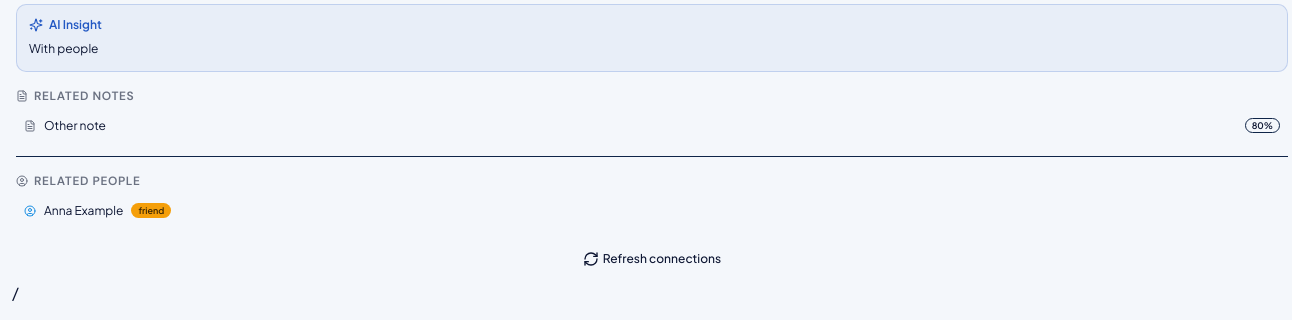
Test: ConnectionsPanel related people › opens the person's own page, not the People list
Click the button "Anna Example friend": (84, 210) [16,196,1288,224]
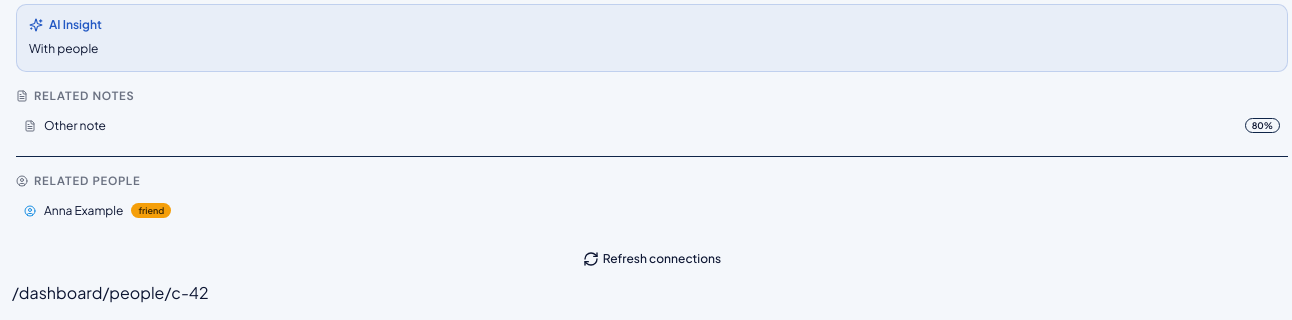
Now the text with test id "location" reads "/dashboard/people/c-42", box [12,282,208,302]
